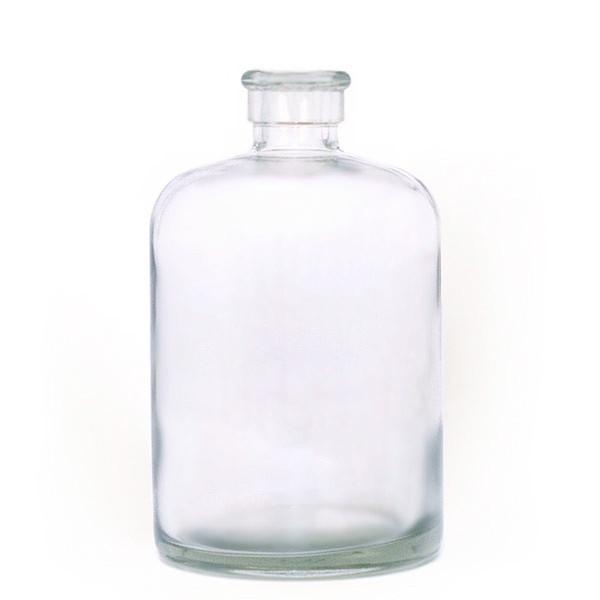emptybottle: (149, 71, 446, 579)
